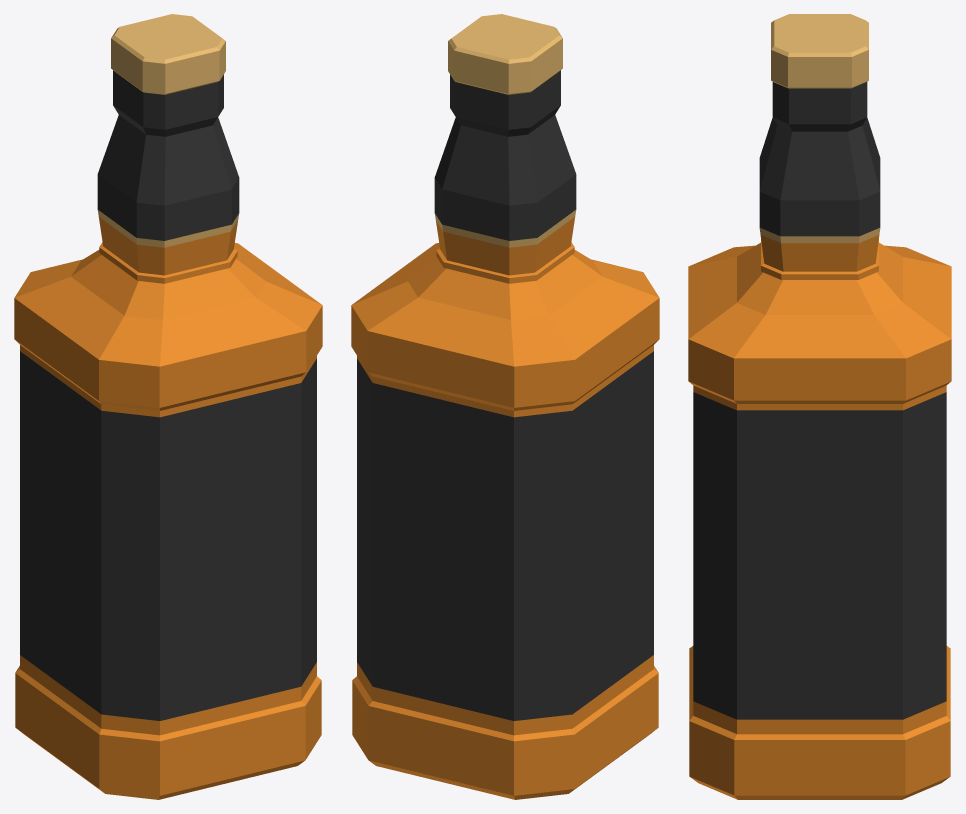
Rendered from BottleWhiskey.fbx.
3 views of the same model, side by side, from view 1: azimuth 30°, elevation 25°; view 2: azimuth 150°, elevation 25°; view 3: azimuth 270°, elevation 25° (orthographic).
Parts seen in each view (by area): view 1: Cube; view 2: Cube; view 3: Cube.
Boxes of the visible parts, bbox=[...] form: Cube: bbox=[14, 14, 322, 799]; Cube: bbox=[351, 14, 659, 799]; Cube: bbox=[688, 14, 951, 799].
Size of the model in its own units: 195 by 584 by 195.
